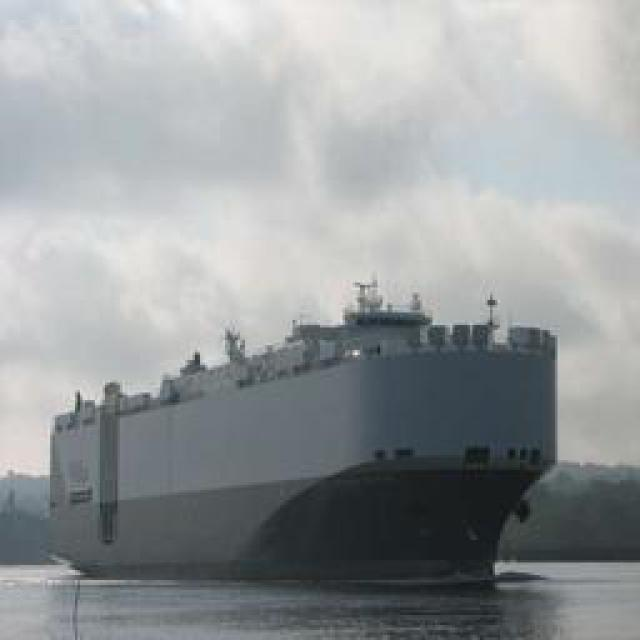Ship: (25, 276, 565, 579)
